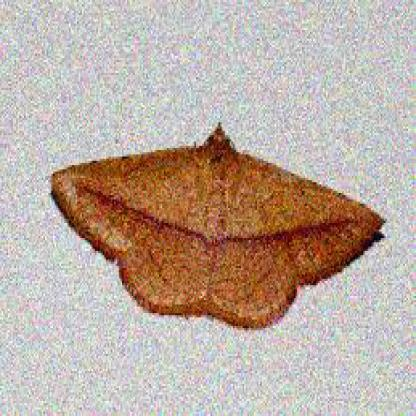Leaf Webber: (47, 118, 390, 330)
